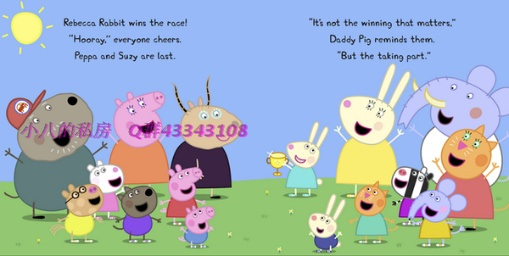Peppa: (160, 162, 205, 226)
